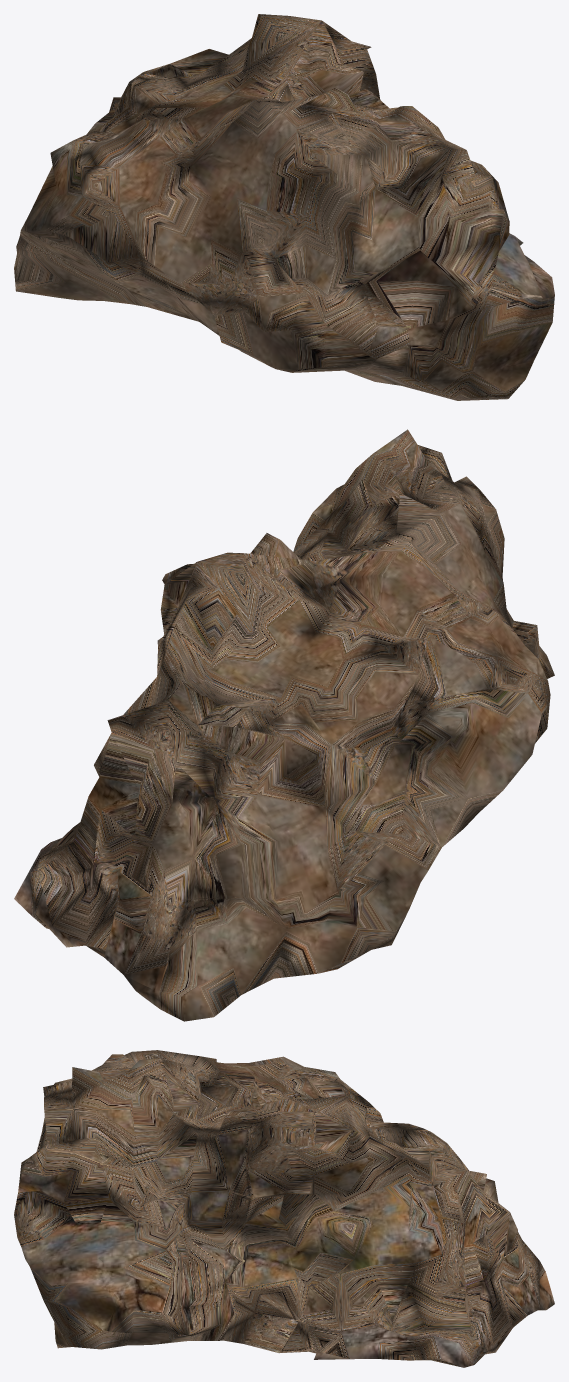
The model's file is boulder.glb.
3 renders of one model, top to bottom at view 1: azimuth 30°, elevation 25°; view 2: azimuth 150°, elevation 25°; view 3: azimuth 270°, elevation 25°, orthographic. The views are drawn at different scales.
Bounding box in the file's own units: 1.27 × 0.9989 × 1.81.
Materials: 1 (1 with a texture image).
